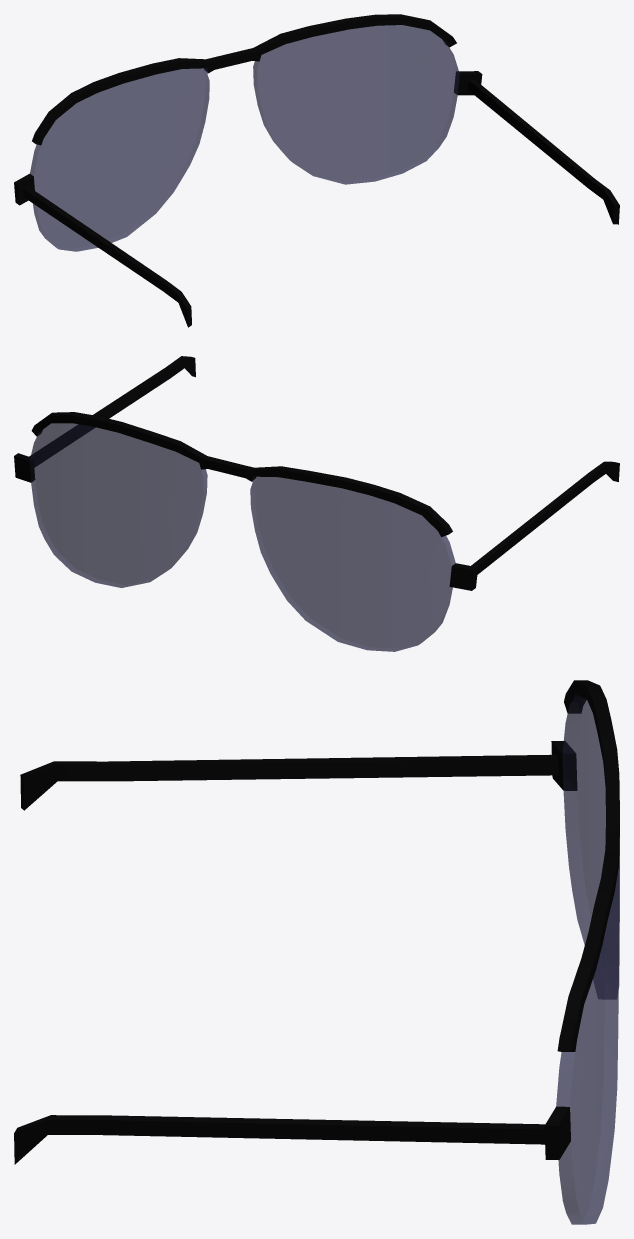
3 views of the same model, one above another, from view 1: azimuth 30°, elevation 25°; view 2: azimuth 150°, elevation 25°; view 3: azimuth 270°, elevation 25° (orthographic). The views are drawn at different scales.
Visible parts, largest first — view 1: glasses, glass; view 2: glasses, glass; view 3: glasses, glass.
Part boxes in pixels (x1,y1,x2,y2): glasses: (14,14,619,327); glass: (30,25,455,248); glasses: (14,356,619,651); glass: (29,423,451,651); glasses: (14,680,619,1224); glass: (570,701,619,1224).
Bounding box in the file's own units: 15.33 × 5.22 × 10.2.
